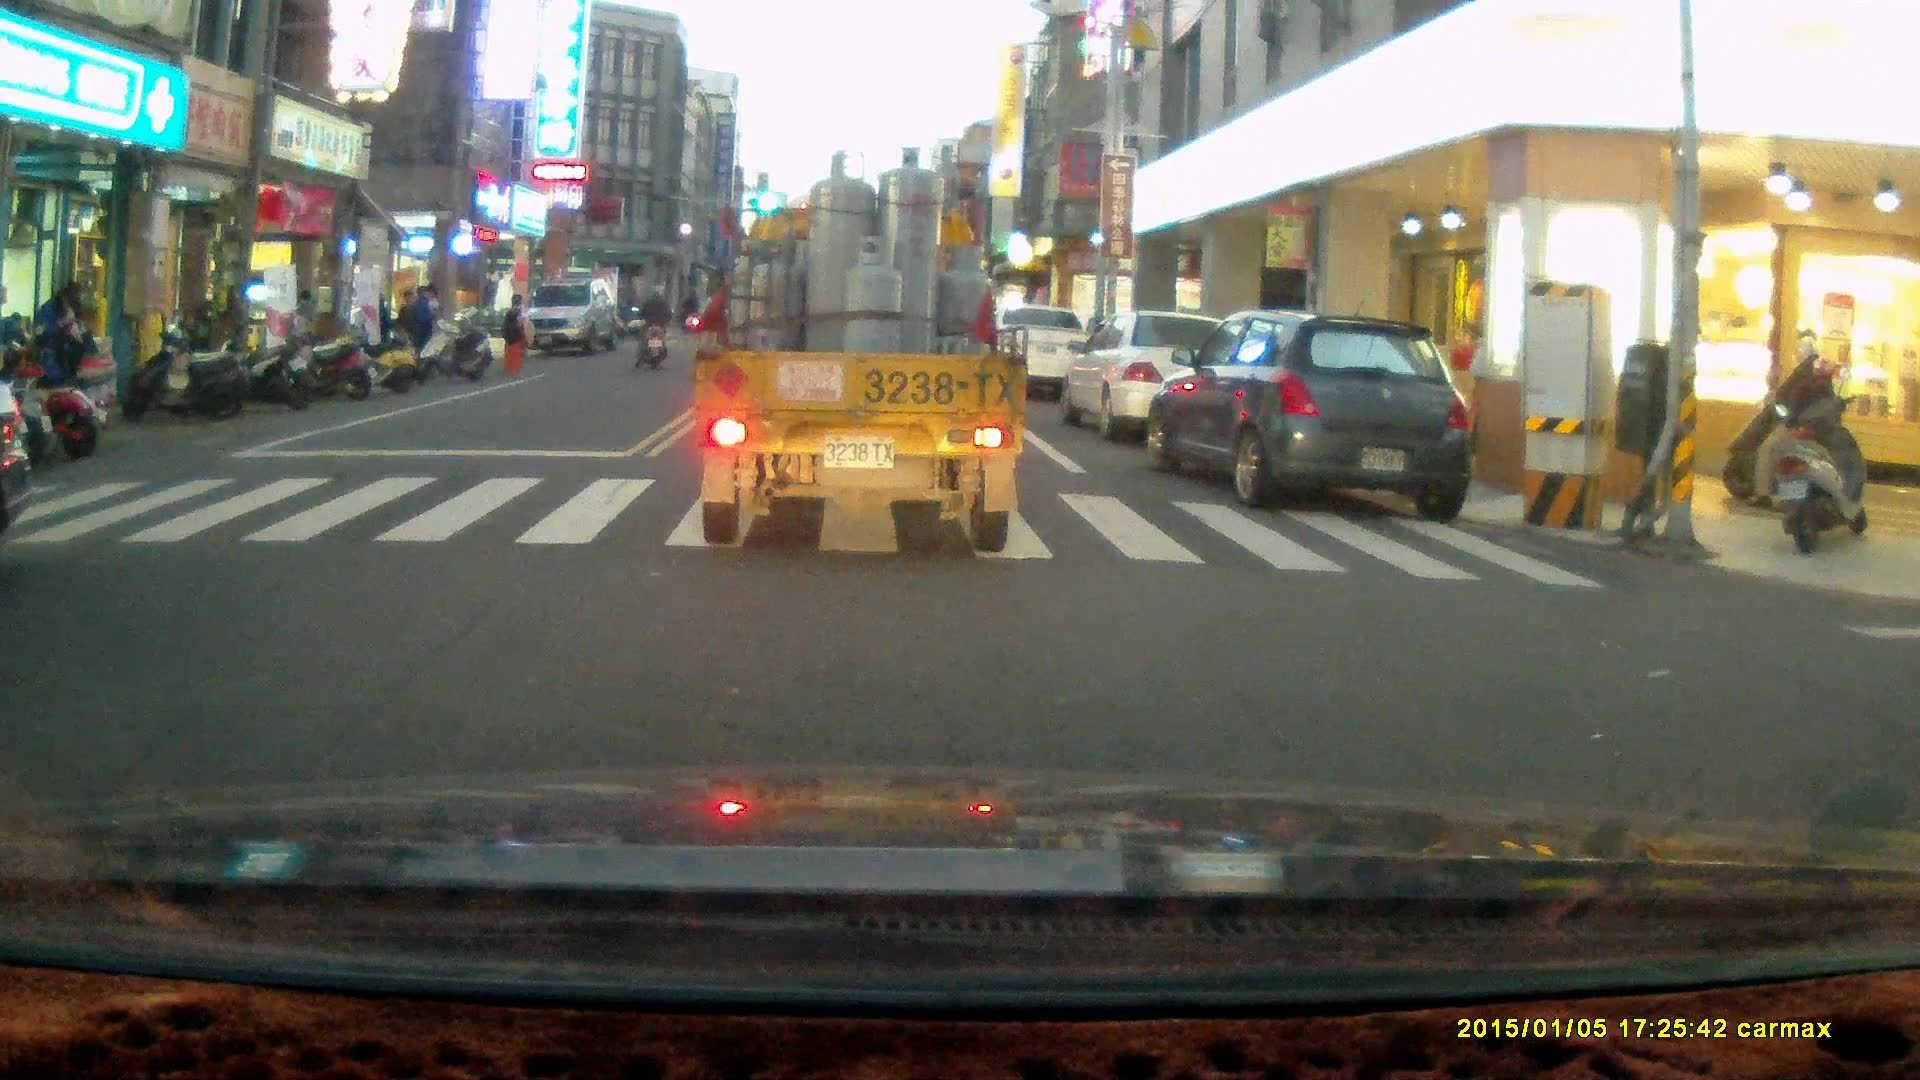pedestrian: (30, 277, 94, 409), (404, 285, 441, 378), (194, 285, 224, 376), (501, 291, 530, 377)
rider: (1719, 331, 1861, 509), (630, 282, 675, 372)
vehicle: (696, 146, 1027, 559), (1138, 309, 1478, 515), (1063, 309, 1255, 438), (976, 302, 1096, 404), (522, 280, 624, 356)
